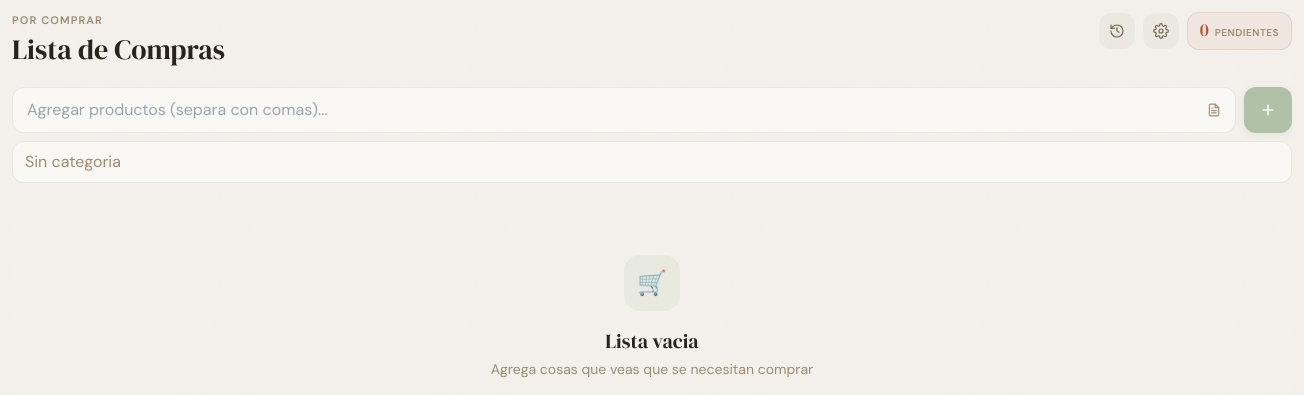
Test case: ShoppingList — agregar múltiples productos por coma › limpia el input y avisa cuántos se agregaron
This screenshot has width=1304, height=395.
Type "lechuga, tomate" into the field with placeholder "Agregar productos (separa con comas)..." at (624, 110), box x1=12 y1=86 x2=1236 y2=132
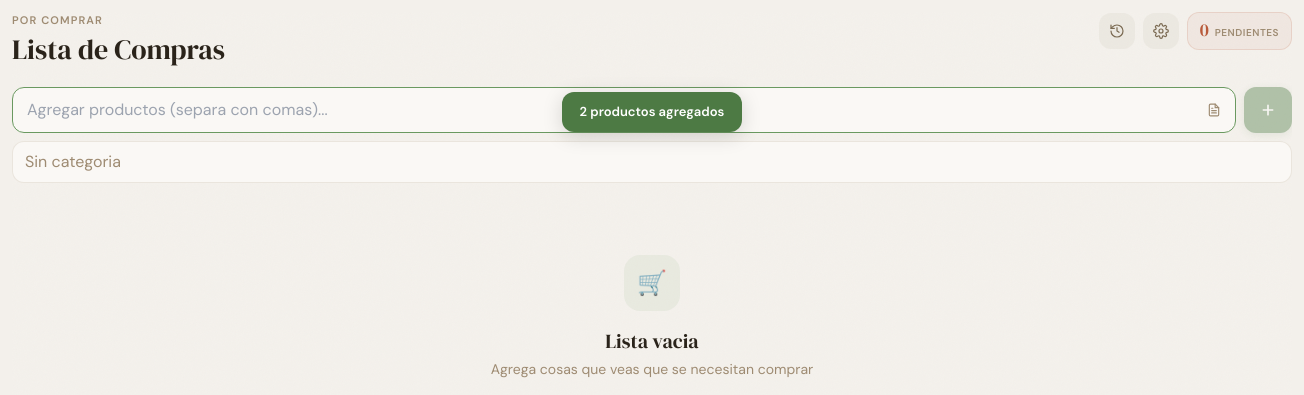
Check: the text "2 productos agregados" is shown, box x1=562 y1=92 x2=742 y2=132
